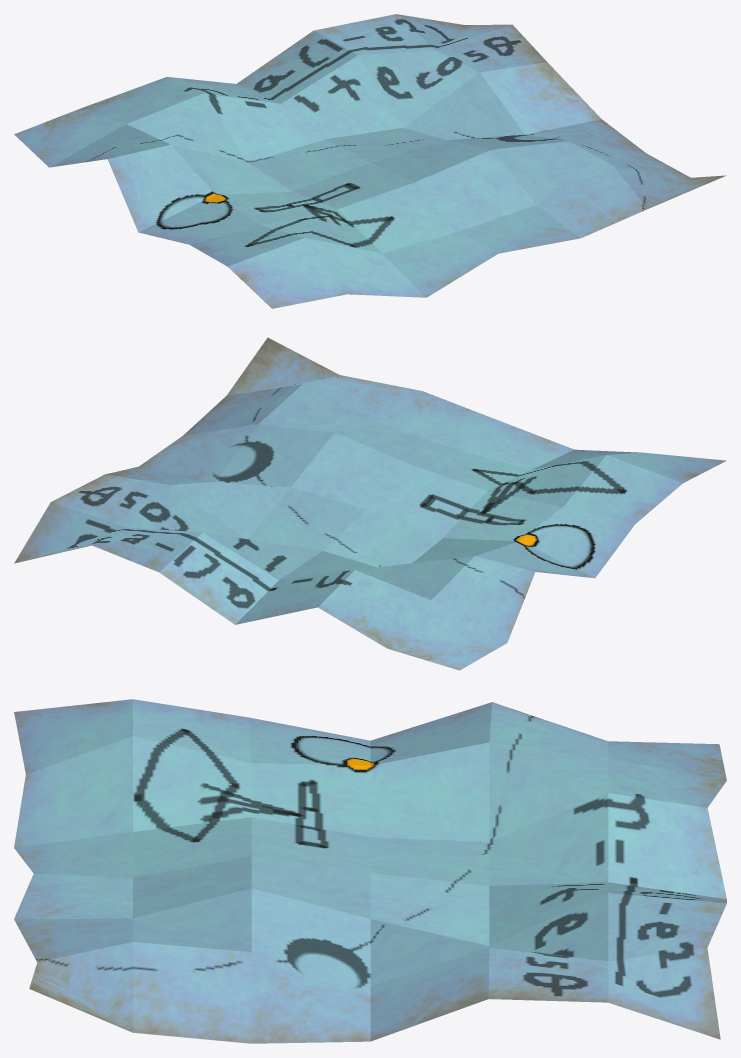
File: paper5.gltf
The picture shows the model from 3 angles, top to bottom: view 1: azimuth 30°, elevation 25°; view 2: azimuth 150°, elevation 25°; view 3: azimuth 270°, elevation 25°; orthographic projection. The views are drawn at different scales.
Visible parts, largest first — view 1: Plane; view 2: Plane; view 3: Plane.
Part boxes in pixels (x1,y1,x2,y2): Plane: (14,14,726,308); Plane: (14,337,726,670); Plane: (14,699,726,1043).
Bounding box in the file's own units: 0.2783 × 0.0271 × 0.2783.
Materials: 1 (1 with a texture image).
